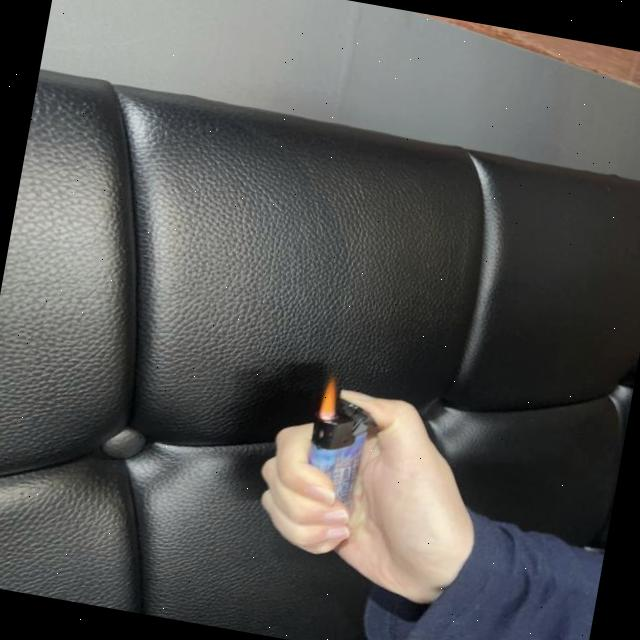fire: (317, 378, 343, 422)
